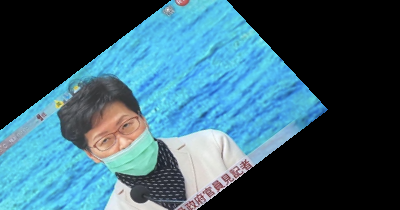mask_weared_incorrect: (55, 72, 160, 180)
